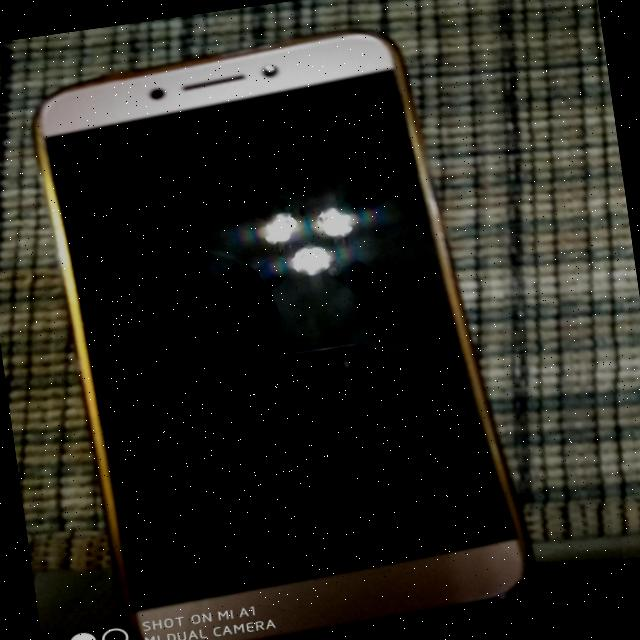Phone: (25, 13, 541, 640)
